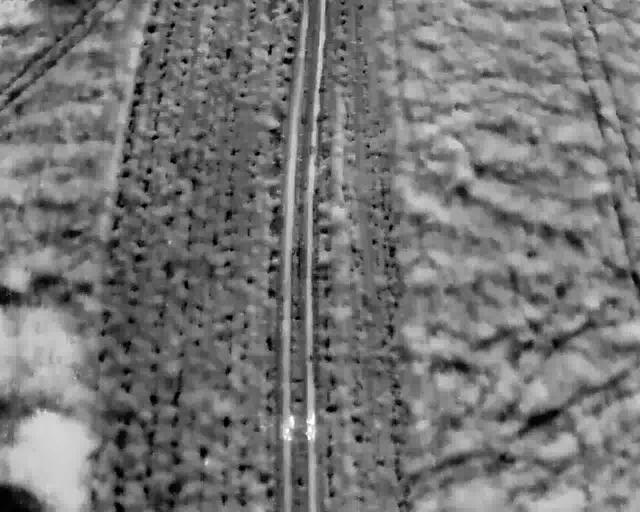person: (281, 410, 295, 442), (304, 409, 316, 442)
